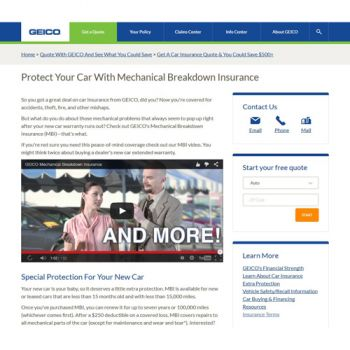Geico: (27, 27, 61, 37)
